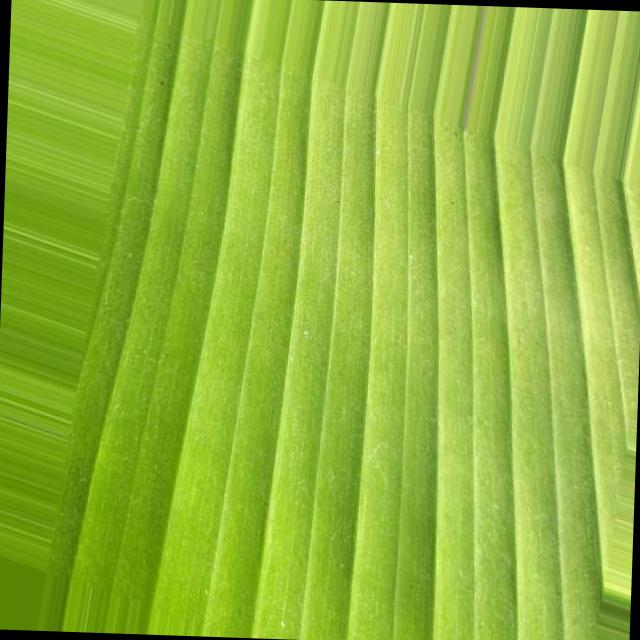Banana_Healthy: (42, 23, 640, 640)
